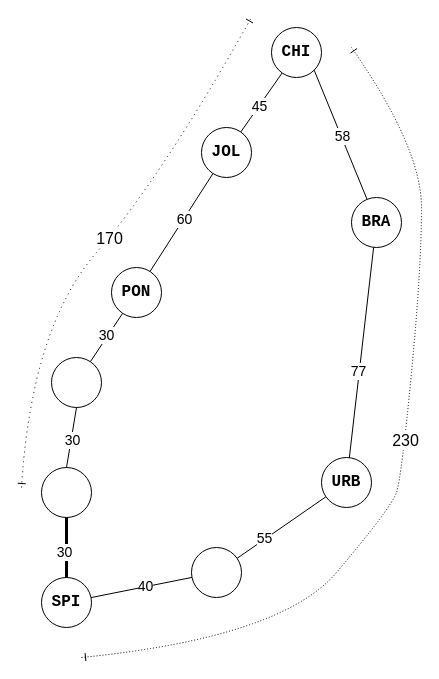
Some shapes in this 439 by 679 pixel diagram are drawn without their labels. Each missing label, with the centre of its shape:
"BLO" goes at (76,382).
"DEC" goes at (216,572).
"LCN" goes at (66,492).
